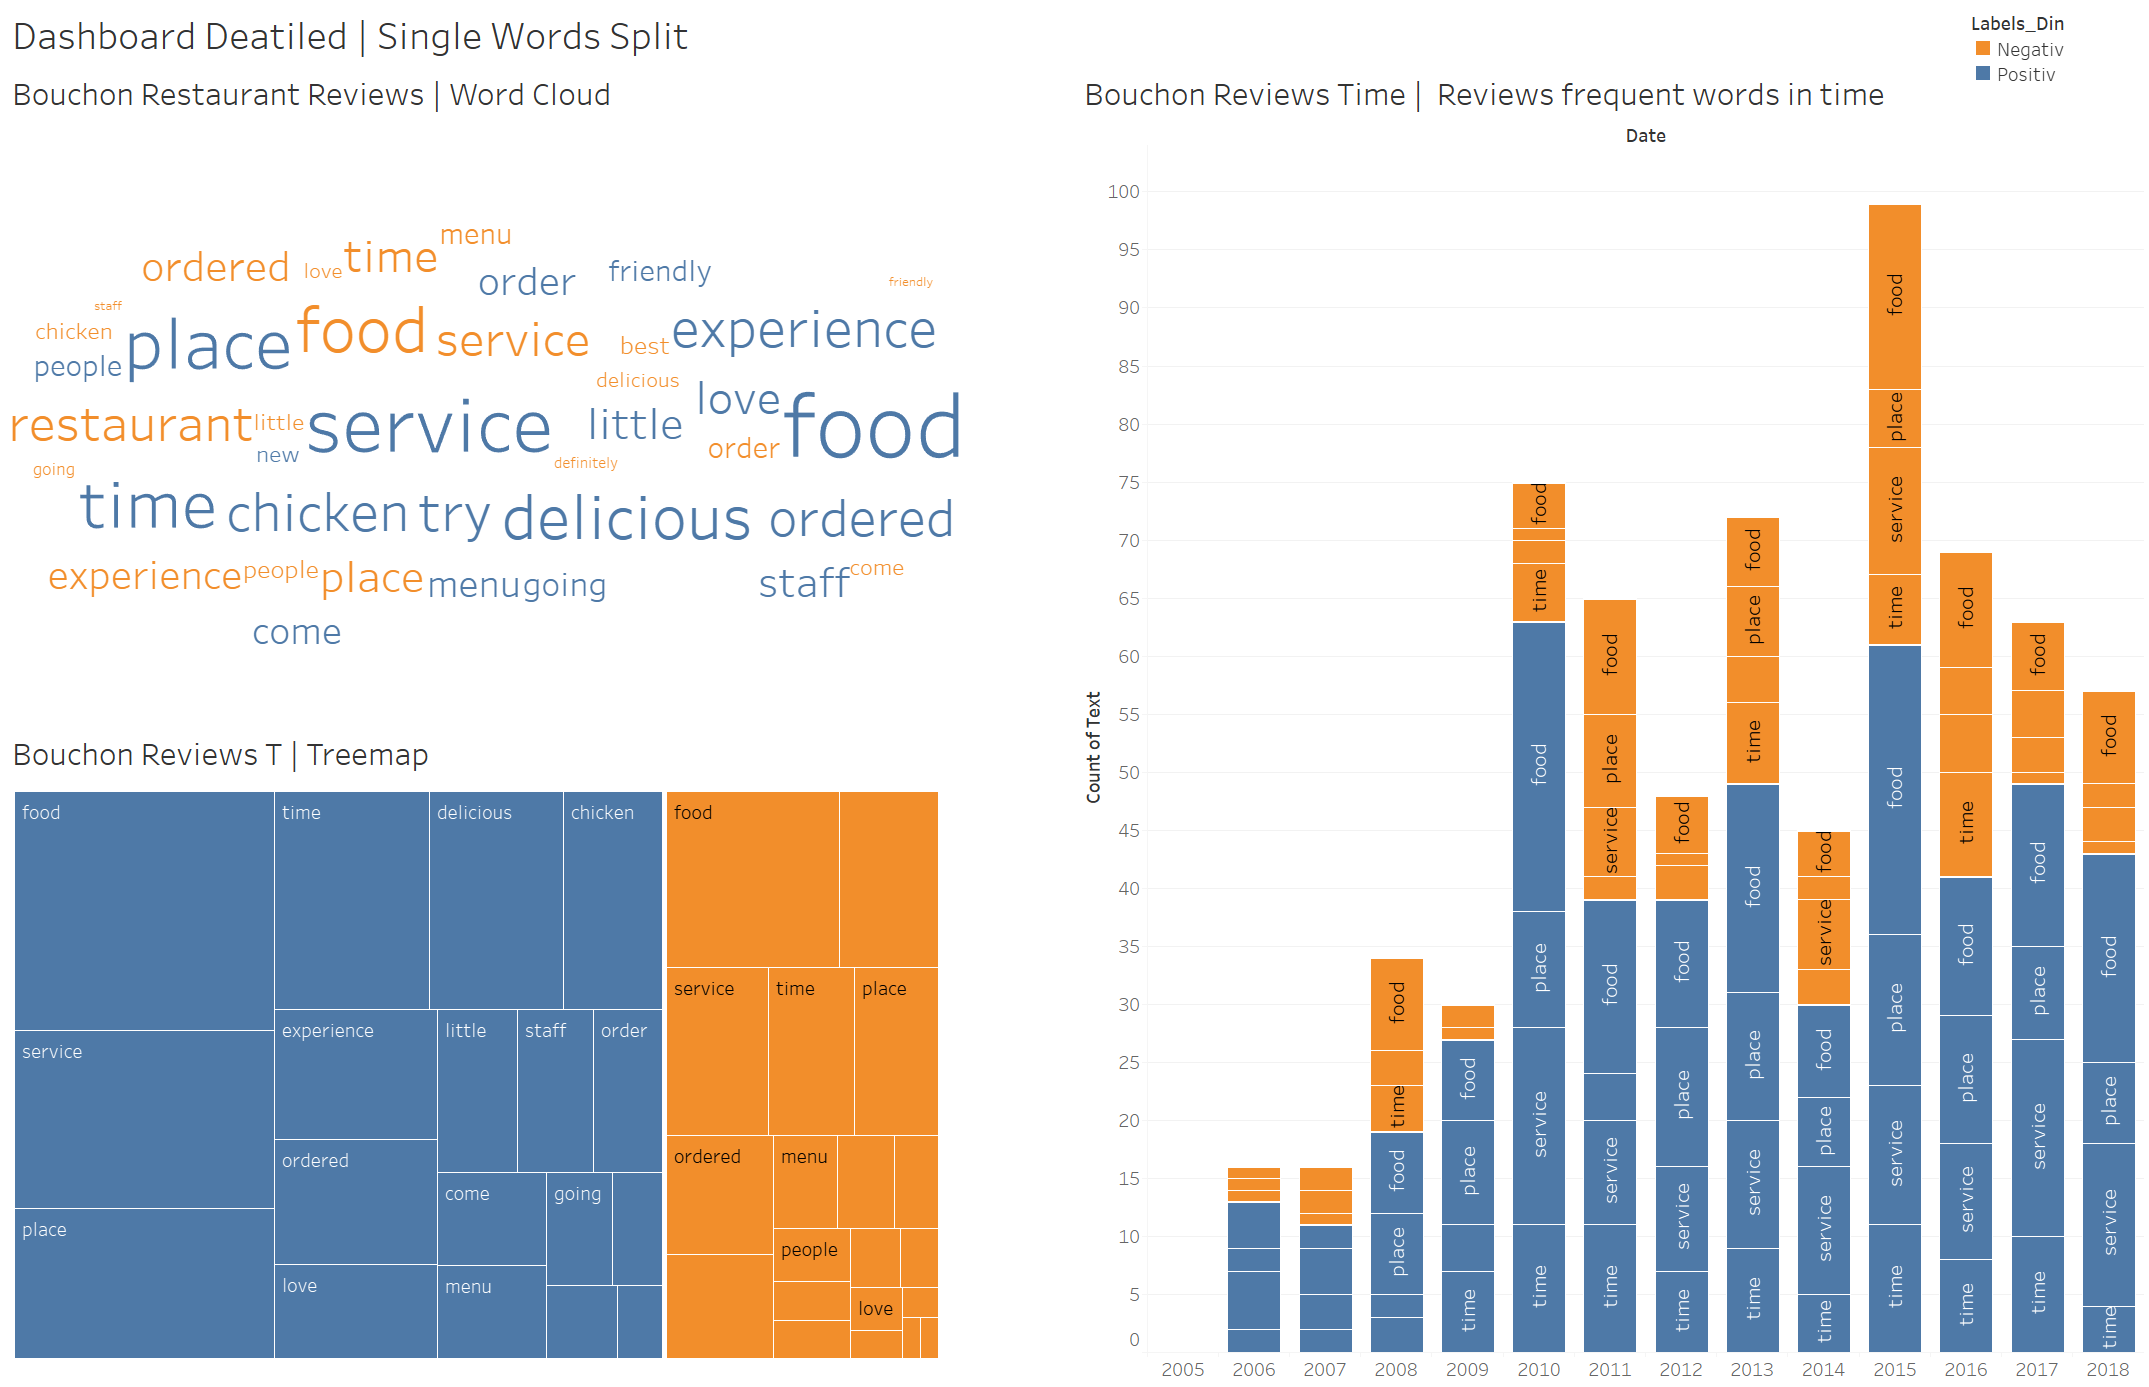

What the dashboard file says about the page in this screenshot:
{"tool":"tableau","page":{"name":"Dashboard Deatiled","canvas":[1000,1000],"units":"permille","ordinal":0},"visuals":[{"type":"worksheet","box":[0,0,1000,1000]},{"type":"worksheet","param":"vert","box":[912.7,5.9,86.8,70.5]},{"type":"worksheet","title":"Bouchon Restaurant Reviews","mark":"Text","param":"[federated.1omos4b0xc7uyd1aenn3j1dgw0mr].[none:Labels (copy)_206884172898066437:","box":[912.7,5.9,86.8,23.5]},{"type":"worksheet","param":"vert","box":[4.3,6.8,495.7,986.4]},{"type":"worksheet","box":[4.3,6.8,495.7,49.2]},{"type":"worksheet","title":"Example Place","mark":"Bar","rows":["Pivot Field Values"],"cols":["date"],"box":[500,6.8,495.7,986.4]},{"type":"worksheet","title":"Las Vegas","mark":"Automatic","rows":["latitude"],"cols":["longitude"],"param":"[federated.1omos4b0xc7uyd1aenn3j1dgw0mr].[none:review_count:qk]","box":[912.7,29.4,86.8,23.5]},{"type":"worksheet","title":"Las Vegas","mark":"Automatic","rows":["latitude"],"cols":["longitude"],"param":"[federated.1omos4b0xc7uyd1aenn3j1dgw0mr].[avg:stars_x:qk]","box":[912.7,52.9,86.8,23.5]},{"type":"worksheet","param":"horz","box":[4.3,56,495.7,937.2]},{"type":"worksheet","box":[4.3,56,495.7,937.2]},{"type":"worksheet","title":"Bouchon Restaurant Reviews","mark":"Text","box":[4.3,56,495.7,402.4]},{"type":"worksheet","title":"Las Vegas","mark":"Automatic","rows":["latitude"],"cols":["longitude"],"box":[4.3,458.4,495.7,534.8]}]}

Visuals, with their boxes on the dashboard's canvas, which has no fixed pixel size, in thousandths of its width and height (x1, y1, x2, y2). These are canvas units, not pixel positions in the 2149x1387 screenshot, which may show the page scaled, cropped or inside an application window:
worksheet: 0/0/1000/1000
worksheet: 913/6/1000/76
"Bouchon Restaurant Reviews" worksheet (Text marks): 913/6/1000/29
worksheet: 4/7/500/993
worksheet: 4/7/500/56
"Example Place" worksheet (Bar marks): 500/7/996/993
"Las Vegas" worksheet: 913/29/1000/53
"Las Vegas" worksheet: 913/53/1000/76
worksheet: 4/56/500/993
worksheet: 4/56/500/993
"Bouchon Restaurant Reviews" worksheet (Text marks): 4/56/500/458
"Las Vegas" worksheet: 4/458/500/993
